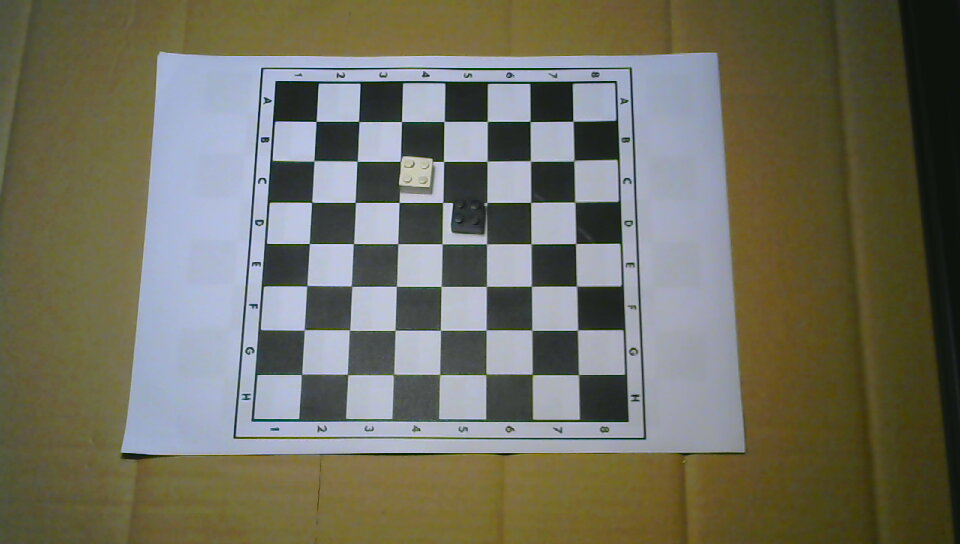bp: (449, 197, 487, 237)
wp: (397, 152, 435, 196)
